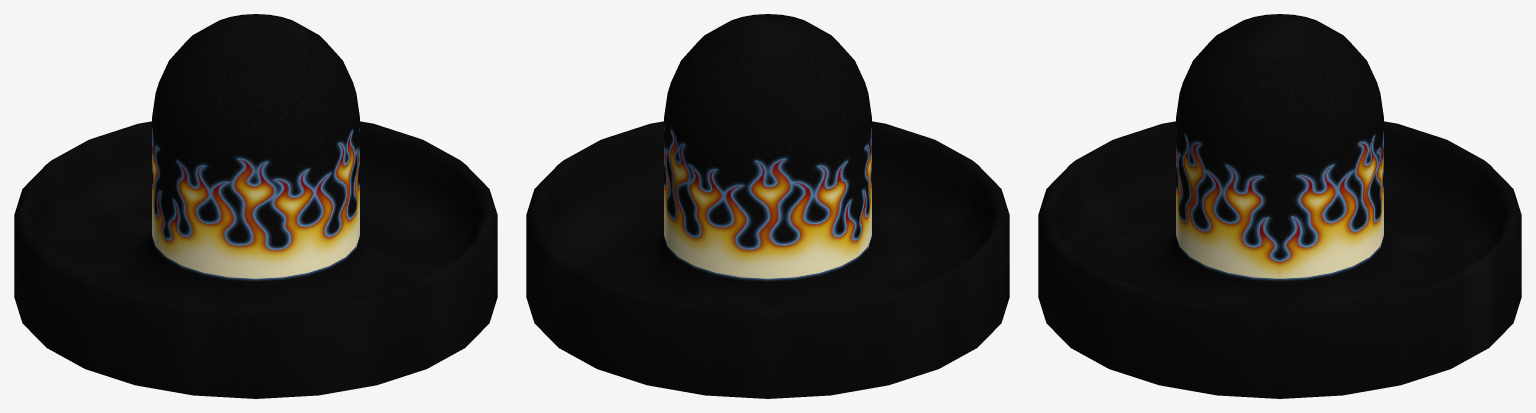
The model's file is Mallet11.fbx.
3 renders of one model, left to right at view 1: azimuth 30°, elevation 25°; view 2: azimuth 150°, elevation 25°; view 3: azimuth 270°, elevation 25°, orthographic.
Visible parts, largest first — view 1: Empty_Mesh; view 2: Empty_Mesh; view 3: Empty_Mesh.
Part boxes in pixels (x1,y1,x2,y2): Empty_Mesh: (14, 14, 497, 398); Empty_Mesh: (526, 14, 1009, 398); Empty_Mesh: (1038, 14, 1521, 398).
Bounding box in the file's own units: 12.1 × 7.55 × 12.1.
